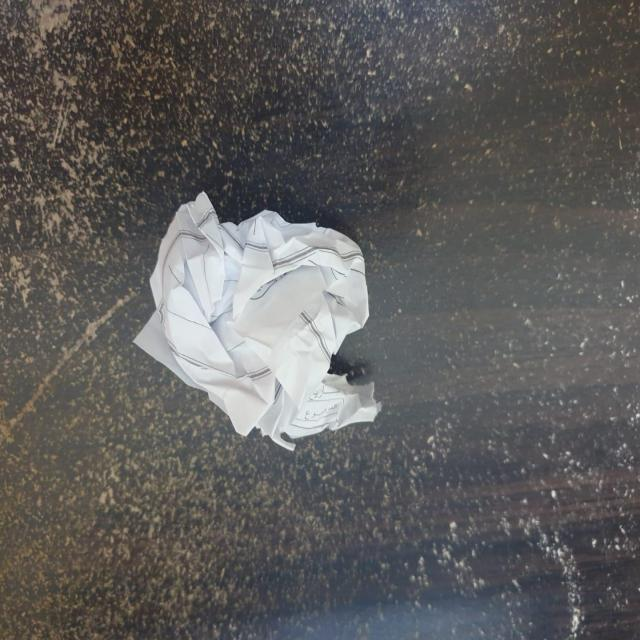kertas: (132, 184, 384, 455)
